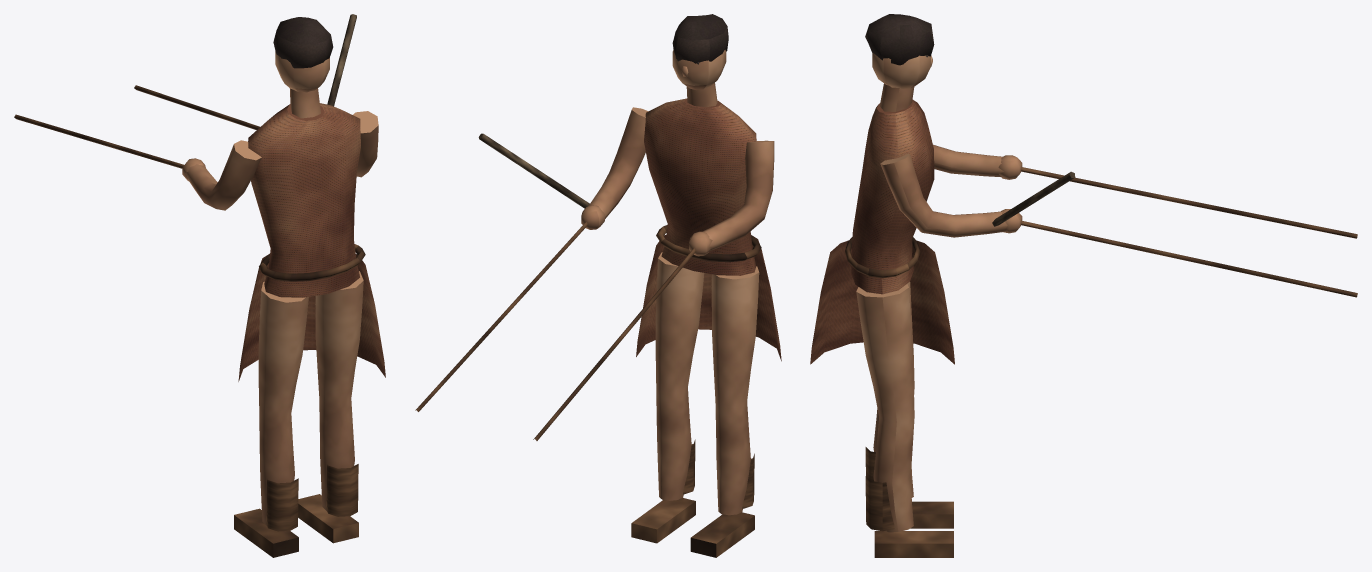
Rendered from auriga_carro.gltf.
3 renders of one model, left to right at view 1: azimuth 30°, elevation 25°; view 2: azimuth 150°, elevation 25°; view 3: azimuth 270°, elevation 25°, orthographic.
Visible parts, largest first — view 1: auriga_carro; view 2: auriga_carro; view 3: auriga_carro.
Part boxes in pixels (bbox=[...]): auriga_carro: bbox=[14, 14, 385, 557]; auriga_carro: bbox=[415, 14, 781, 557]; auriga_carro: bbox=[810, 14, 1357, 557].
Size of the model in its own units: 0.8016 by 1.82 by 1.73.
6 materials, 6 textured.
